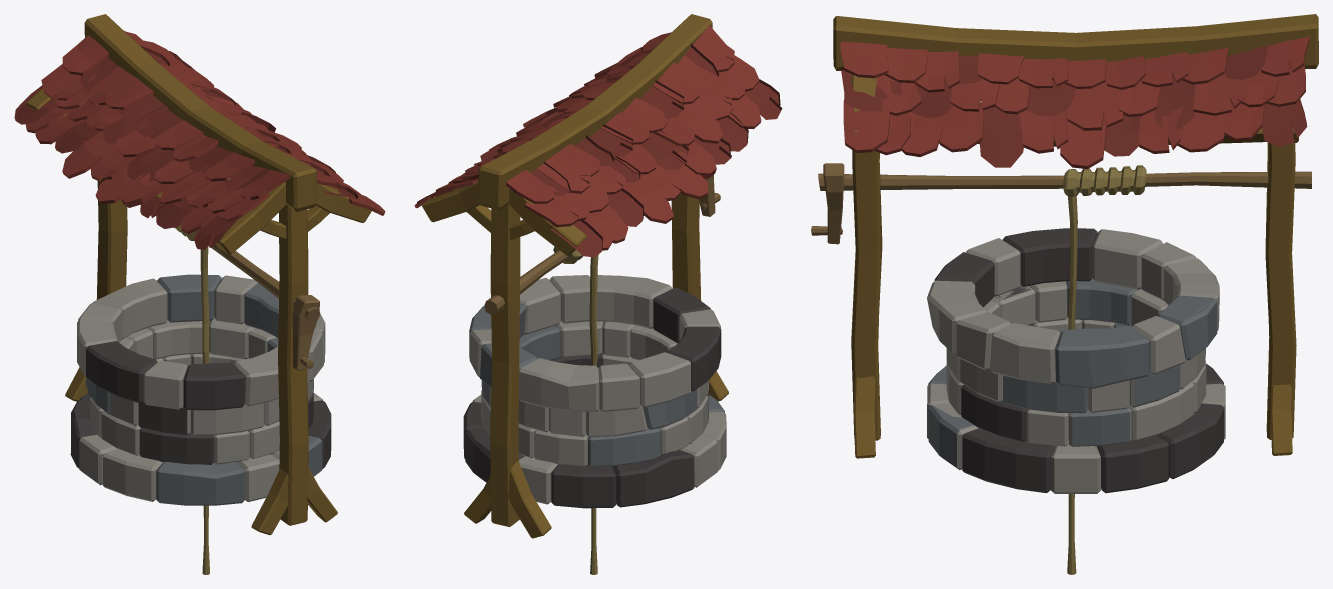
The model's file is well.fbx.
The picture shows the model from 3 angles, left to right: view 1: azimuth 30°, elevation 25°; view 2: azimuth 150°, elevation 25°; view 3: azimuth 270°, elevation 25°; orthographic projection. The views are drawn at different scales.
Visible parts, largest first — view 1: Plane.001, Cube.003, Cube, Cube.002, Cube.006, Cube.004, Cube.001, Plane.033, Cube.005, Cube.014, Cylinder.001, Cube.018 (+4 smaller); view 2: Plane.001, Cube.003, Cube, Cube.002, Cube.005, Cube.006, Cube.001, Plane.033, Cube.004, Cube.015, Cube.013, Cube.011 (+3 smaller); view 3: Plane.033, Cube.003, Cube, Cube.006, Cube.002, Cube.001, Cube.005, Cube.004, Cube.017, Cylinder, Cube.008, Cylinder.001 (+2 smaller).
Boxes of the visible parts, x1,y1,x2,y2 form: Plane.001: (14,35,290,249); Cube.003: (77,274,325,410); Cube: (70,392,331,505); Cube.002: (85,316,313,435); Cube.006: (84,14,317,211); Cube.004: (278,205,308,525); Cube.001: (88,352,313,464); Plane.033: (124,31,385,215); Cube.005: (96,179,127,299); Cube.014: (215,182,286,254); Cylinder.001: (200,246,209,574); Cube.018: (292,295,319,370); Plane.001: (506,25,782,257); Cube.003: (469,275,721,411); Cube: (463,394,726,508); Cube.002: (481,321,708,437); Cube.005: (490,204,520,526); Cube.006: (478,14,712,210); Cube.001: (481,351,708,466); Plane.033: (414,32,671,207); Cube.004: (671,193,701,300); Cube.015: (508,461,551,538); Cube.013: (508,188,586,255); Cube.011: (422,180,480,222); Plane.033: (840,36,1309,169); Cube.003: (927,228,1219,388); Cube: (927,364,1225,493); Cube.006: (833,14,1318,70); Cube.002: (946,278,1205,413); Cube.001: (946,317,1206,446); Cube.005: (1265,142,1296,439); Cube.004: (851,150,882,440); Cube.017: (818,171,1311,190); Cylinder: (1063,165,1146,196); Cube.008: (853,376,875,458); Cylinder.001: (1067,196,1077,574).
Bounding box in the file's own units: 1361 × 2779 × 2316.
